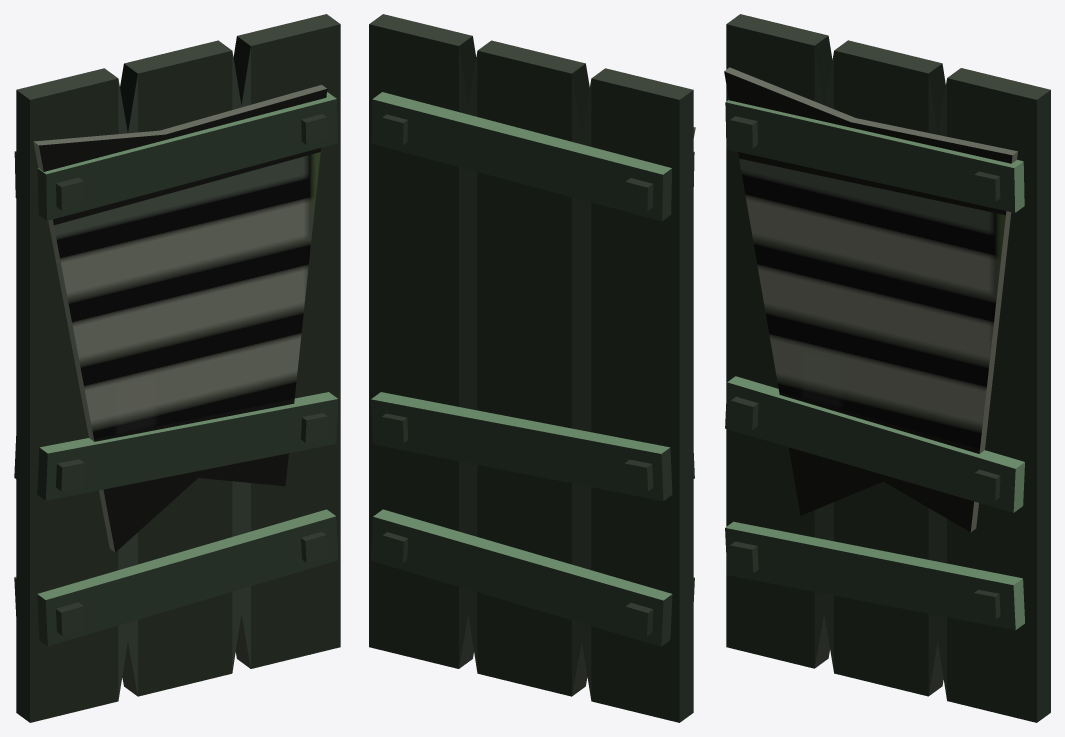
The model's file is SF_Wep_Goblin_Shield_07.glb.
The picture shows the model from 3 angles, left to right: view 1: azimuth 30°, elevation 25°; view 2: azimuth 150°, elevation 25°; view 3: azimuth 330°, elevation 25°; orthographic projection.
Parts seen in each view (by area): view 1: SF_Wep_Goblin_Shield_07; view 2: SF_Wep_Goblin_Shield_07; view 3: SF_Wep_Goblin_Shield_07.
Boxes of the visible parts, x1=… form: SF_Wep_Goblin_Shield_07: x1=14, y1=14, x2=340, y2=722; SF_Wep_Goblin_Shield_07: x1=369, y1=14, x2=695, y2=722; SF_Wep_Goblin_Shield_07: x1=724, y1=14, x2=1050, y2=722.
Bounding box in the file's own units: 0.00831 × 0.0159 × 0.00196.
1 material, 1 textured.
